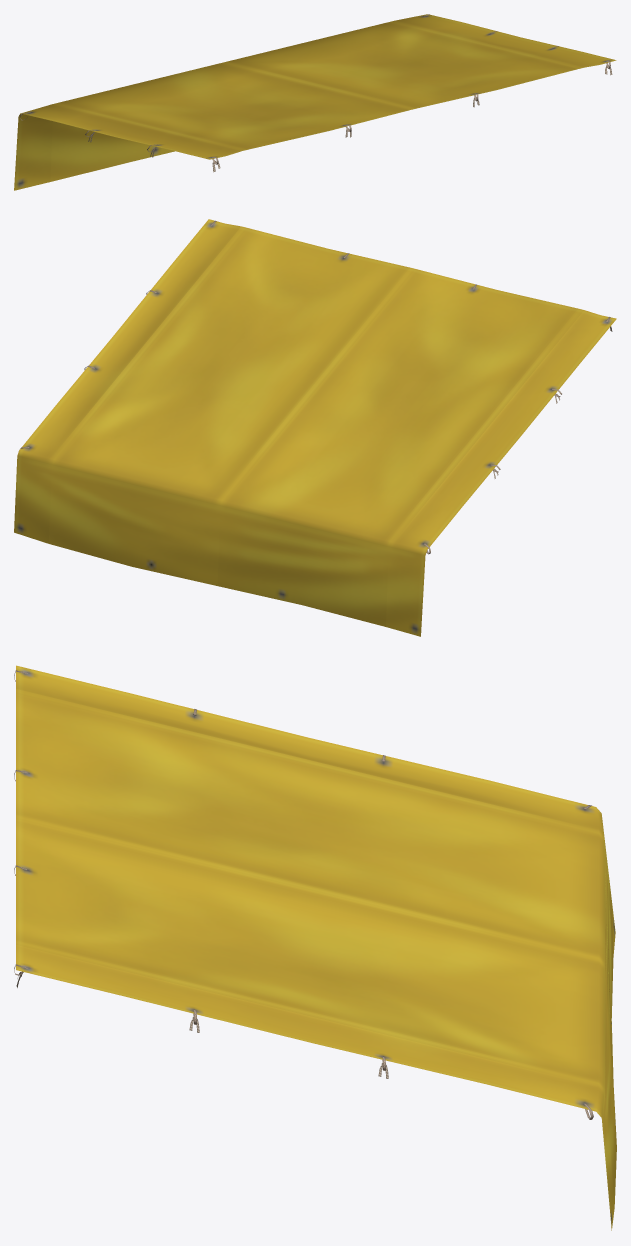
The model's file is jsf_Ceiling_s02_c05_t01.fbx.
The picture shows the model from 3 angles, top to bottom: view 1: azimuth 30°, elevation 25°; view 2: azimuth 150°, elevation 25°; view 3: azimuth 270°, elevation 25°; orthographic projection. The views are drawn at different scales.
Visible parts, largest first — view 1: jsf_Ceiling_s02_c05_t01; view 2: jsf_Ceiling_s02_c05_t01; view 3: jsf_Ceiling_s02_c05_t01.
Boxes of the visible parts, <box> form: jsf_Ceiling_s02_c05_t01: <box>14,14,616,190</box>; jsf_Ceiling_s02_c05_t01: <box>14,219,616,636</box>; jsf_Ceiling_s02_c05_t01: <box>14,665,616,1230</box>.
Size of the model in its own units: 263 by 106 by 216.
